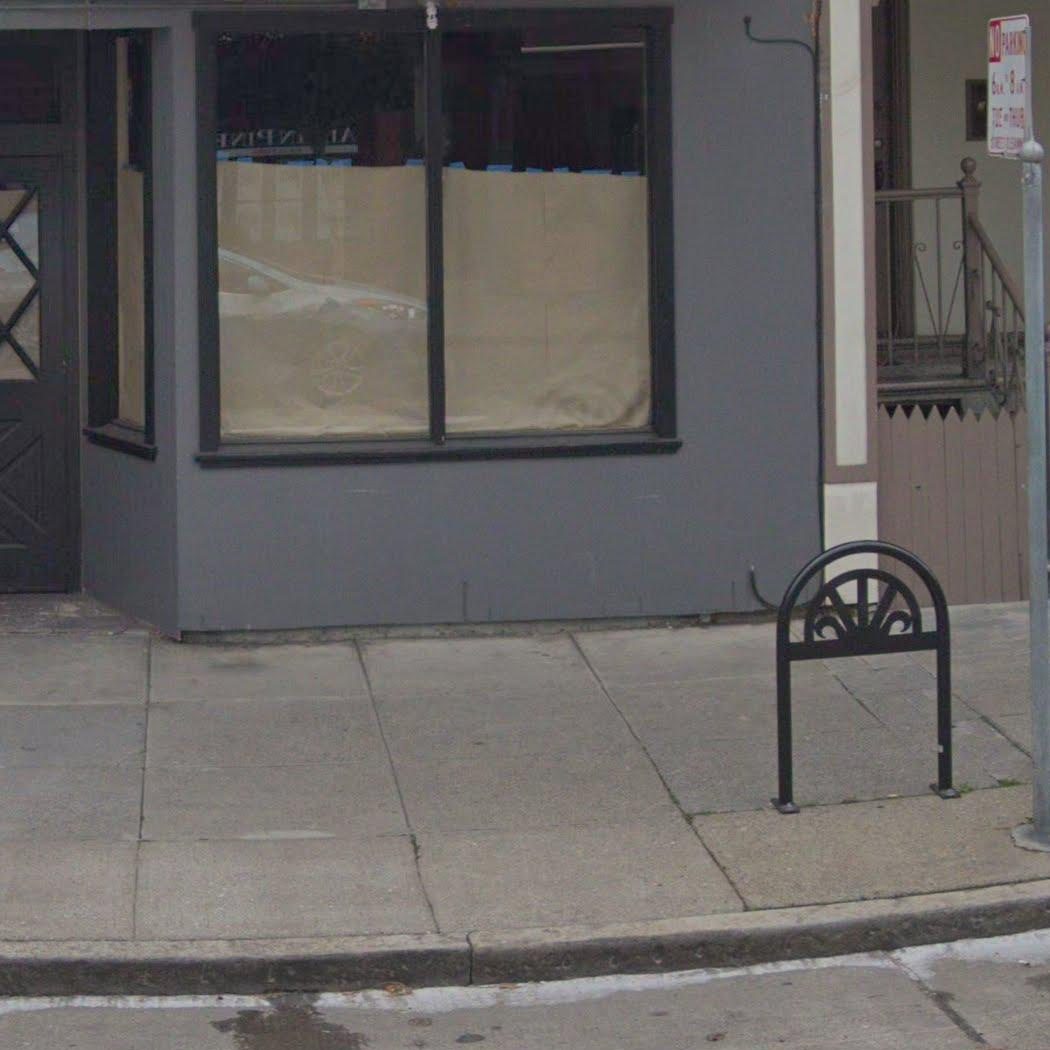No Parking: (987, 13, 1033, 160)
